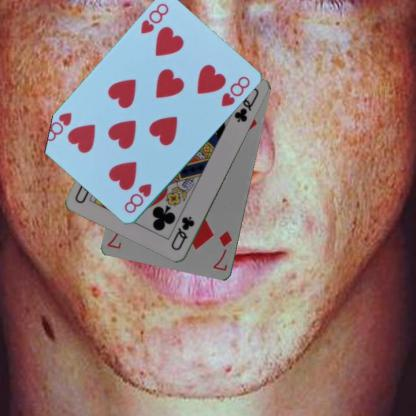7d: (210, 228, 233, 273)
8h: (137, 1, 170, 35), (121, 181, 153, 215)
Qc: (169, 214, 196, 252)
